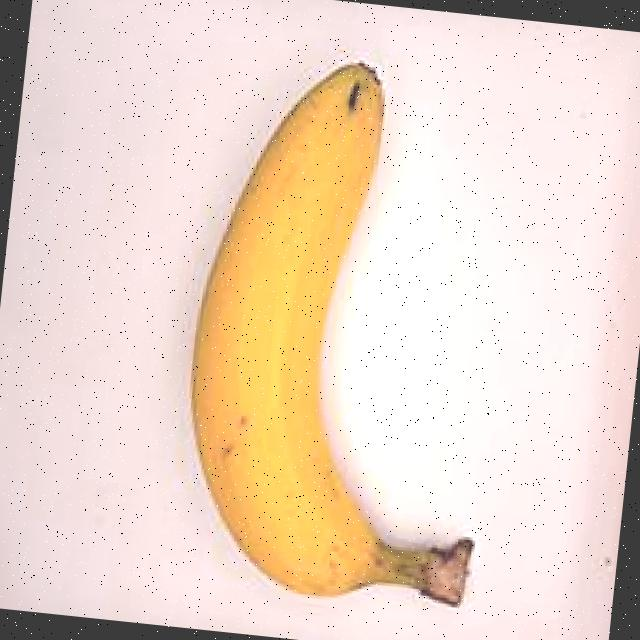Ripe: (144, 20, 558, 638)
